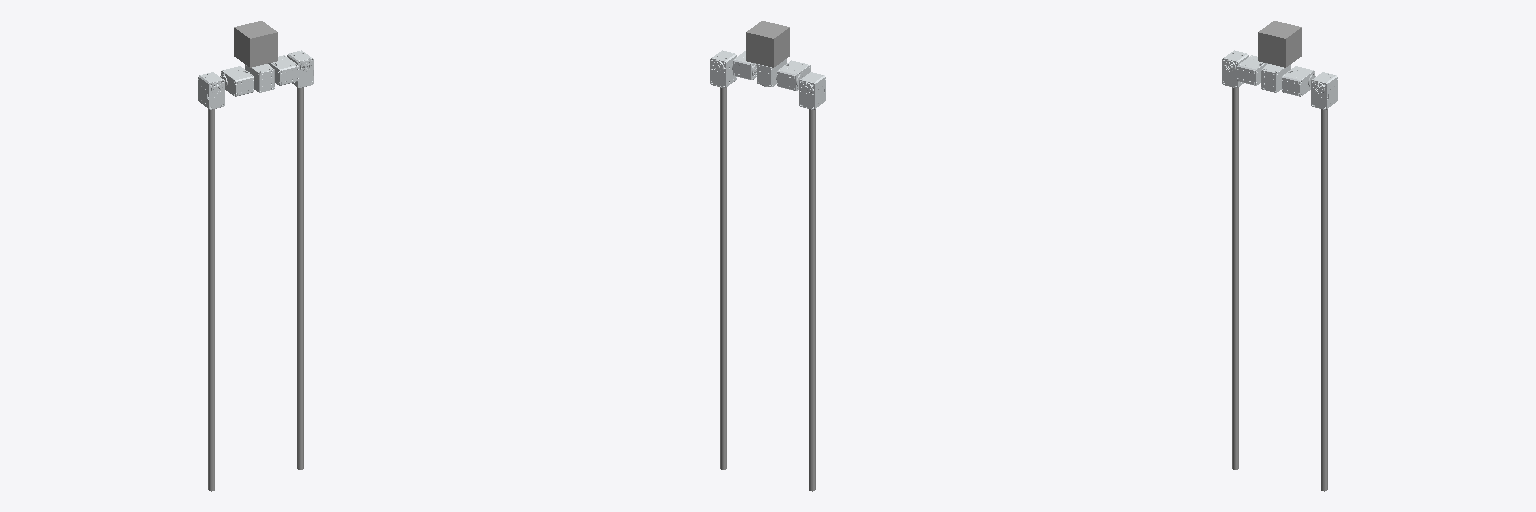
The robot description file, URDF, robot "chopstick_bot":
<?xml version='1.0' encoding='utf-8'?>
<robot name="chopstick_bot">
  <link name="world" />
  <joint name="world_to_base" type="fixed">
    <origin xyz="0.000000 0.000000 0.770000" rpy="0.000000 0.000000 0.000000" />
    <parent link="world" />
    <child link="base_motor_link" />
    </joint>
  <link name="base_motor_link">
    <visual>
      <origin xyz="0.000000 0.000000 0.000000" rpy="0.000000 0.000000 0.000000" />
      <geometry>
        <mesh filename="meshes/XL-430_new_coordinate_on_axis.STL" scale="0.001000 0.001000 0.001000" />
        </geometry>
      <material name="motor_mat">
        <color rgba="0.89804 0.91765 0.92941 1.0" />
        </material>
      </visual>
    <collision>
      <origin xyz="0.000000 -0.012000 0.000000" rpy="0.000000 0.000000 0.000000" />
      <geometry>
        <box size="0.028500 0.046500 0.034000" />
        </geometry>
      </collision>
    <inertial>
      <origin xyz="0.000000 -0.012000 0.000000" rpy="0.000000 0.000000 0.000000" />
      <mass value="0.065000" />
      <inertia ixx="0.000017973854" ixy="0" ixz="0" iyy="0.000010661354" iyz="0" izz="0.000016111875" />
      </inertial>
    </link>
  <link name="l_hip_pitch">
    <visual>
      <origin xyz="0.000000 0.000000 0.000000" rpy="0.000000 0.000000 0.000000" />
      <geometry>
        <mesh filename="meshes/XL-430_new_coordinate_on_axis.STL" scale="0.001000 0.001000 0.001000" />
        </geometry>
      <material name="motor_mat">
        <color rgba="0.89804 0.91765 0.92941 1.0" />
        </material>
      </visual>
    <collision>
      <origin xyz="0.000000 -0.012000 0.000000" rpy="0.000000 0.000000 0.000000" />
      <geometry>
        <box size="0.028500 0.046500 0.034000" />
        </geometry>
      </collision>
    <inertial>
      <origin xyz="0.000000 -0.012000 0.000000" rpy="0.000000 0.000000 0.000000" />
      <mass value="0.065000" />
      <inertia ixx="0.000017973854" ixy="0" ixz="0" iyy="0.000010661354" iyz="0" izz="0.000016111875" />
      </inertial>
    </link>
  <link name="l_hip_pitch_out">
    <inertial>
      <origin xyz="0.000000 0.000000 0.000000" rpy="0.000000 0.000000 0.000000" />
      <mass value="0.001000" />
      <inertia ixx="0.000000016667" ixy="0" ixz="0" iyy="0.000000016667" iyz="0" izz="0.000000016667" />
      </inertial>
    </link>
  <joint name="l_hip_pitch_mount_fixed" type="fixed">
    <origin xyz="-0.040000 0.000000 0.000000" rpy="0.000000 -1.570796 0.000000" />
    <parent link="base_motor_link" />
    <child link="l_hip_pitch" />
    </joint>
  <joint name="l_hip_pitch_joint" type="revolute">
    <origin xyz="0.000000 0.000000 0.000000" rpy="0.000000 0.000000 0.000000" />
    <parent link="l_hip_pitch" />
    <child link="l_hip_pitch_out" />
    <axis xyz="0.000000 0.000000 1.000000" />
    <limit lower="-3.14159" upper="3.14159" effort="5.0" velocity="8.0" />
    </joint>
  <link name="l_hip_roll">
    <visual>
      <origin xyz="0.000000 0.000000 0.000000" rpy="0.000000 0.000000 0.000000" />
      <geometry>
        <mesh filename="meshes/XL-430_new_coordinate_on_axis.STL" scale="0.001000 0.001000 0.001000" />
        </geometry>
      <material name="motor_mat">
        <color rgba="0.89804 0.91765 0.92941 1.0" />
        </material>
      </visual>
    <collision>
      <origin xyz="0.000000 -0.012000 0.000000" rpy="0.000000 0.000000 0.000000" />
      <geometry>
        <box size="0.028500 0.046500 0.034000" />
        </geometry>
      </collision>
    <inertial>
      <origin xyz="0.000000 -0.012000 0.000000" rpy="0.000000 0.000000 0.000000" />
      <mass value="0.065000" />
      <inertia ixx="0.000017973854" ixy="0" ixz="0" iyy="0.000010661354" iyz="0" izz="0.000016111875" />
      </inertial>
    </link>
  <link name="l_hip_roll_out">
    <inertial>
      <origin xyz="0.000000 0.000000 0.000000" rpy="0.000000 0.000000 0.000000" />
      <mass value="0.001000" />
      <inertia ixx="0.000000016667" ixy="0" ixz="0" iyy="0.000000016667" iyz="0" izz="0.000000016667" />
      </inertial>
    </link>
  <joint name="l_hip_roll_mount_fixed" type="fixed">
    <origin xyz="0.000000 0.000000 0.040000" rpy="0.000000 -1.570796 -1.570796" />
    <parent link="l_hip_pitch_out" />
    <child link="l_hip_roll" />
    </joint>
  <joint name="l_hip_roll_joint" type="revolute">
    <origin xyz="0.000000 0.000000 0.000000" rpy="0.000000 0.000000 0.000000" />
    <parent link="l_hip_roll" />
    <child link="l_hip_roll_out" />
    <axis xyz="0.000000 0.000000 1.000000" />
    <limit lower="-3.14159" upper="3.14159" effort="5.0" velocity="8.0" />
    </joint>
  <link name="l_end_effector">
    <visual>
      <origin xyz="0.000000 0.000000 0.000000" rpy="1.570796 0.000000 0.000000" />
      <geometry>
        <cylinder radius="0.005000" length="0.700000" />
        </geometry>
      <material name="cylinder_mat">
        <color rgba="0.7 0.7 0.7 1.0" />
        </material>
      </visual>
    <collision>
      <origin xyz="0.000000 -0.350000 0.000000" rpy="0.000000 0.000000 0.000000" />
      <geometry>
        <box size="0.020000 0.020000 0.020000" />
        </geometry>
      </collision>
    <inertial>
      <origin xyz="0.000000 0.000000 0.000000" rpy="0.000000 0.000000 0.000000" />
      <mass value="0.027489" />
      <inertia ixx="0.001122636681" ixy="0" ixz="0" iyy="0.001122636681" iyz="0" izz="0.000000343612" />
      </inertial>
    </link>
  <joint name="l_end_effector_fixed" type="fixed">
    <origin xyz="0.000000 -0.350000 0.000000" rpy="0.000000 0.000000 0.000000" />
    <parent link="l_hip_roll_out" />
    <child link="l_end_effector" />
    </joint>
  <link name="r_hip_pitch">
    <visual>
      <origin xyz="0.000000 0.000000 0.000000" rpy="0.000000 0.000000 0.000000" />
      <geometry>
        <mesh filename="meshes/XL-430_new_coordinate_on_axis.STL" scale="0.001000 0.001000 0.001000" />
        </geometry>
      <material name="motor_mat">
        <color rgba="0.89804 0.91765 0.92941 1.0" />
        </material>
      </visual>
    <collision>
      <origin xyz="0.000000 -0.012000 0.000000" rpy="0.000000 0.000000 0.000000" />
      <geometry>
        <box size="0.028500 0.046500 0.034000" />
        </geometry>
      </collision>
    <inertial>
      <origin xyz="0.000000 -0.012000 0.000000" rpy="0.000000 0.000000 0.000000" />
      <mass value="0.065000" />
      <inertia ixx="0.000017973854" ixy="0" ixz="0" iyy="0.000010661354" iyz="0" izz="0.000016111875" />
      </inertial>
    </link>
  <link name="r_hip_pitch_out">
    <inertial>
      <origin xyz="0.000000 0.000000 0.000000" rpy="0.000000 0.000000 0.000000" />
      <mass value="0.001000" />
      <inertia ixx="0.000000016667" ixy="0" ixz="0" iyy="0.000000016667" iyz="0" izz="0.000000016667" />
      </inertial>
    </link>
  <joint name="r_hip_pitch_mount_fixed" type="fixed">
    <origin xyz="0.040000 0.000000 0.000000" rpy="0.000000 1.570796 -0.000000" />
    <parent link="base_motor_link" />
    <child link="r_hip_pitch" />
    </joint>
  <joint name="r_hip_pitch_joint" type="revolute">
    <origin xyz="0.000000 0.000000 0.000000" rpy="0.000000 0.000000 0.000000" />
    <parent link="r_hip_pitch" />
    <child link="r_hip_pitch_out" />
    <axis xyz="0.000000 0.000000 1.000000" />
    <limit lower="-3.14159" upper="3.14159" effort="5.0" velocity="8.0" />
    </joint>
  <link name="r_hip_roll">
    <visual>
      <origin xyz="0.000000 0.000000 0.000000" rpy="0.000000 0.000000 0.000000" />
      <geometry>
        <mesh filename="meshes/XL-430_new_coordinate_on_axis.STL" scale="0.001000 0.001000 0.001000" />
        </geometry>
      <material name="motor_mat">
        <color rgba="0.89804 0.91765 0.92941 1.0" />
        </material>
      </visual>
    <collision>
      <origin xyz="0.000000 -0.012000 0.000000" rpy="0.000000 0.000000 0.000000" />
      <geometry>
        <box size="0.028500 0.046500 0.034000" />
        </geometry>
      </collision>
    <inertial>
      <origin xyz="0.000000 -0.012000 0.000000" rpy="0.000000 0.000000 0.000000" />
      <mass value="0.065000" />
      <inertia ixx="0.000017973854" ixy="0" ixz="0" iyy="0.000010661354" iyz="0" izz="0.000016111875" />
      </inertial>
    </link>
  <link name="r_hip_roll_out">
    <inertial>
      <origin xyz="0.000000 0.000000 0.000000" rpy="0.000000 0.000000 0.000000" />
      <mass value="0.001000" />
      <inertia ixx="0.000000016667" ixy="0" ixz="0" iyy="0.000000016667" iyz="0" izz="0.000000016667" />
      </inertial>
    </link>
  <joint name="r_hip_roll_mount_fixed" type="fixed">
    <origin xyz="-0.000000 0.000000 0.040000" rpy="0.000000 1.570796 1.570796" />
    <parent link="r_hip_pitch_out" />
    <child link="r_hip_roll" />
    </joint>
  <joint name="r_hip_roll_joint" type="revolute">
    <origin xyz="0.000000 0.000000 0.000000" rpy="0.000000 0.000000 0.000000" />
    <parent link="r_hip_roll" />
    <child link="r_hip_roll_out" />
    <axis xyz="0.000000 0.000000 1.000000" />
    <limit lower="-3.14159" upper="3.14159" effort="5.0" velocity="8.0" />
    </joint>
  <link name="r_end_effector">
    <visual>
      <origin xyz="0.000000 0.000000 0.000000" rpy="1.570796 0.000000 0.000000" />
      <geometry>
        <cylinder radius="0.005000" length="0.700000" />
        </geometry>
      <material name="cylinder_mat">
        <color rgba="0.7 0.7 0.7 1.0" />
        </material>
      </visual>
    <collision>
      <origin xyz="0.000000 -0.350000 0.000000" rpy="0.000000 0.000000 0.000000" />
      <geometry>
        <box size="0.020000 0.020000 0.020000" />
        </geometry>
      </collision>
    <inertial>
      <origin xyz="0.000000 0.000000 0.000000" rpy="0.000000 0.000000 0.000000" />
      <mass value="0.027489" />
      <inertia ixx="0.001122636681" ixy="0" ixz="0" iyy="0.001122636681" iyz="0" izz="0.000000343612" />
      </inertial>
    </link>
  <joint name="r_end_effector_fixed" type="fixed">
    <origin xyz="-0.000000 -0.350000 0.000000" rpy="0.000000 -0.000000 0.000000" />
    <parent link="r_hip_roll_out" />
    <child link="r_end_effector" />
    </joint>
  <link name="trunk_link">
    <visual>
      <origin xyz="0.000000 0.000000 0.000000" rpy="0.000000 0.000000 0.000000" />
      <geometry>
        <box size="0.050000 0.050000 0.050000" />
        </geometry>
      <material name="box_mat">
        <color rgba="0.7 0.7 0.7 1.0" />
        </material>
      </visual>
    <collision>
      <origin xyz="0.000000 0.000000 0.000000" rpy="0.000000 0.000000 0.000000" />
      <geometry>
        <box size="0.050000 0.050000 0.050000" />
        </geometry>
      </collision>
    <inertial>
      <origin xyz="0.000000 0.000000 0.000000" rpy="0.000000 0.000000 0.000000" />
      <mass value="0.200000" />
      <inertia ixx="0.000083333333" ixy="0" ixz="0" iyy="0.000083333333" iyz="0" izz="0.000083333333" />
      </inertial>
    </link>
  <joint name="base_to_trunk" type="revolute">
    <origin xyz="0.000000 0.000000 0.050000" rpy="0.000000 0.000000 0.000000" />
    <parent link="base_motor_link" />
    <child link="trunk_link" />
    <axis xyz="0.000000 0.000000 1.000000" />
    <limit lower="-3.14159" upper="3.14159" effort="5.0" velocity="8.0" />
    </joint>
  </robot>

--- What the picture shows (computed from the rendered views, not written in the file) ---
The picture shows the robot from 3 angles, left to right: view 1: azimuth 30°, elevation 25°; view 2: azimuth 150°, elevation 25°; view 3: azimuth 330°, elevation 25°; orthographic projection.
Model chopstick_bot with 13 links and 12 joints (5 revolute, 7 fixed), rooted at world, posed all joints at 0.
Links seen in each view (by area): view 1: r_end_effector, l_end_effector, trunk_link, l_hip_roll, l_hip_pitch, r_hip_roll, r_hip_pitch, base_motor_link; view 2: r_end_effector, l_end_effector, trunk_link, l_hip_roll, r_hip_roll, l_hip_pitch; view 3: l_end_effector, r_end_effector, trunk_link, r_hip_roll, r_hip_pitch, l_hip_roll, l_hip_pitch, base_motor_link.
Boxes of the visible links, x1,y1,x2,y2 form: r_end_effector: (297,87,303,469); l_end_effector: (208,109,214,491); trunk_link: (234,21,277,67); l_hip_roll: (198,72,224,109); l_hip_pitch: (220,66,253,96); r_hip_roll: (287,50,313,87); r_hip_pitch: (268,55,298,85); base_motor_link: (245,64,274,92); r_end_effector: (720,87,726,469); l_end_effector: (809,109,815,491); trunk_link: (746,21,789,67); l_hip_roll: (799,72,825,109); r_hip_roll: (710,50,736,87); l_hip_pitch: (776,60,810,90); l_end_effector: (1232,87,1238,469); r_end_effector: (1321,109,1327,491); trunk_link: (1258,21,1301,67); r_hip_roll: (1311,72,1337,109); r_hip_pitch: (1282,66,1315,96); l_hip_roll: (1222,50,1248,87); l_hip_pitch: (1237,55,1267,85); base_motor_link: (1261,64,1290,92).
Size in the robot's own frame: 0.1885 by 0.0602 by 0.775 metres.
Meshes: 1 distinct files referenced, 5 mesh visuals loaded (1 binary STL).
